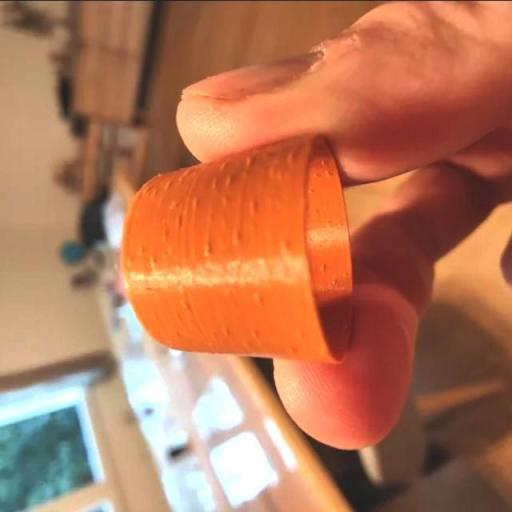blobs: (288, 339, 302, 358), (229, 228, 243, 246), (134, 242, 147, 260), (144, 251, 158, 267), (248, 196, 260, 214), (249, 290, 264, 303), (156, 226, 168, 242), (202, 241, 212, 260), (248, 326, 261, 340), (242, 156, 254, 170), (180, 296, 190, 312), (220, 327, 234, 338), (192, 194, 200, 212), (311, 204, 321, 218), (226, 174, 234, 189), (218, 192, 228, 204), (318, 261, 328, 273), (308, 182, 316, 197), (175, 215, 185, 226), (328, 276, 338, 286), (312, 167, 319, 181), (323, 168, 332, 177)
